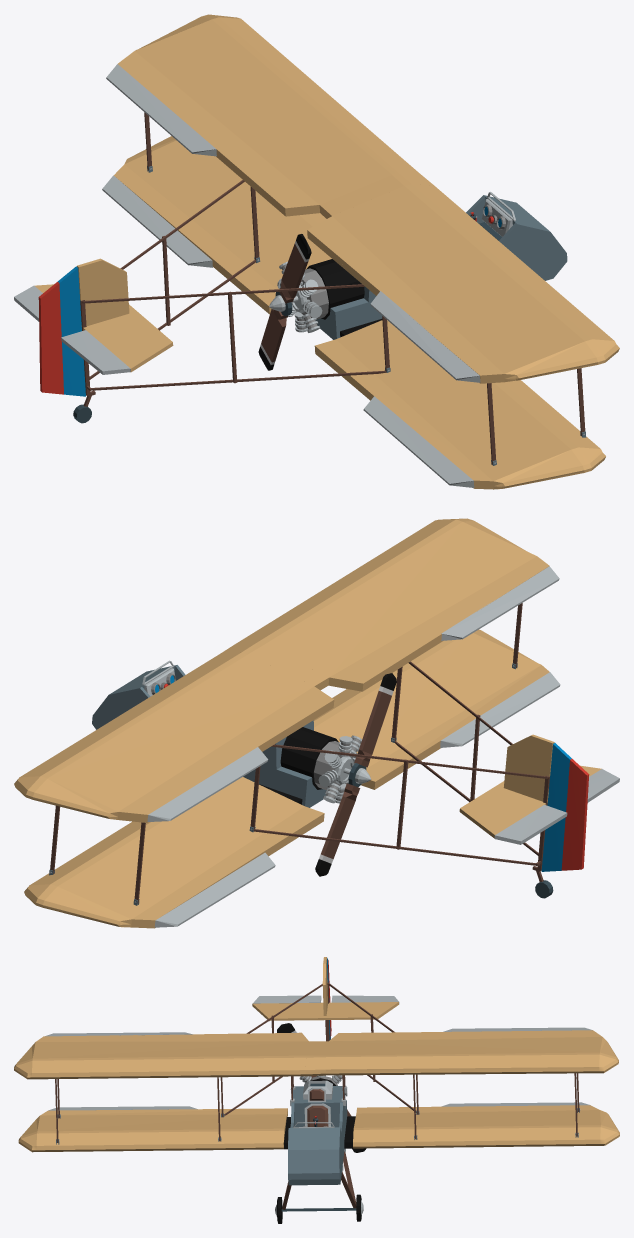
3 renders of one model, top to bottom at view 1: azimuth 30°, elevation 25°; view 2: azimuth 150°, elevation 25°; view 3: azimuth 270°, elevation 25°, orthographic. The views are drawn at different scales.
Parts seen in each view (by area): view 1: node_MeshObject2120343552-PolyPaper16, node_MeshObject-1602544640-PolyPaper23; view 2: node_MeshObject2120343552-PolyPaper16, node_MeshObject-1602544640-PolyPaper23; view 3: node_MeshObject2120343552-PolyPaper16, node_MeshObject-1602544640-PolyPaper23.
Part boxes in pixels (<box>): node_MeshObject2120343552-PolyPaper16: <box>61,14,619,489</box>; node_MeshObject-1602544640-PolyPaper23: <box>14,172,505,406</box>; node_MeshObject2120343552-PolyPaper16: <box>14,518,619,928</box>; node_MeshObject-1602544640-PolyPaper23: <box>151,643,601,881</box>; node_MeshObject2120343552-PolyPaper16: <box>14,995,619,1185</box>; node_MeshObject-1602544640-PolyPaper23: <box>224,957,416,1223</box>.
Size of the model in its own units: 5.67 by 2.44 by 8.37.
